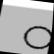no answer: (22, 21, 53, 51)
